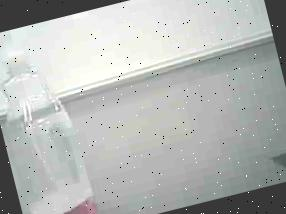hazard: (0, 16, 116, 214)
